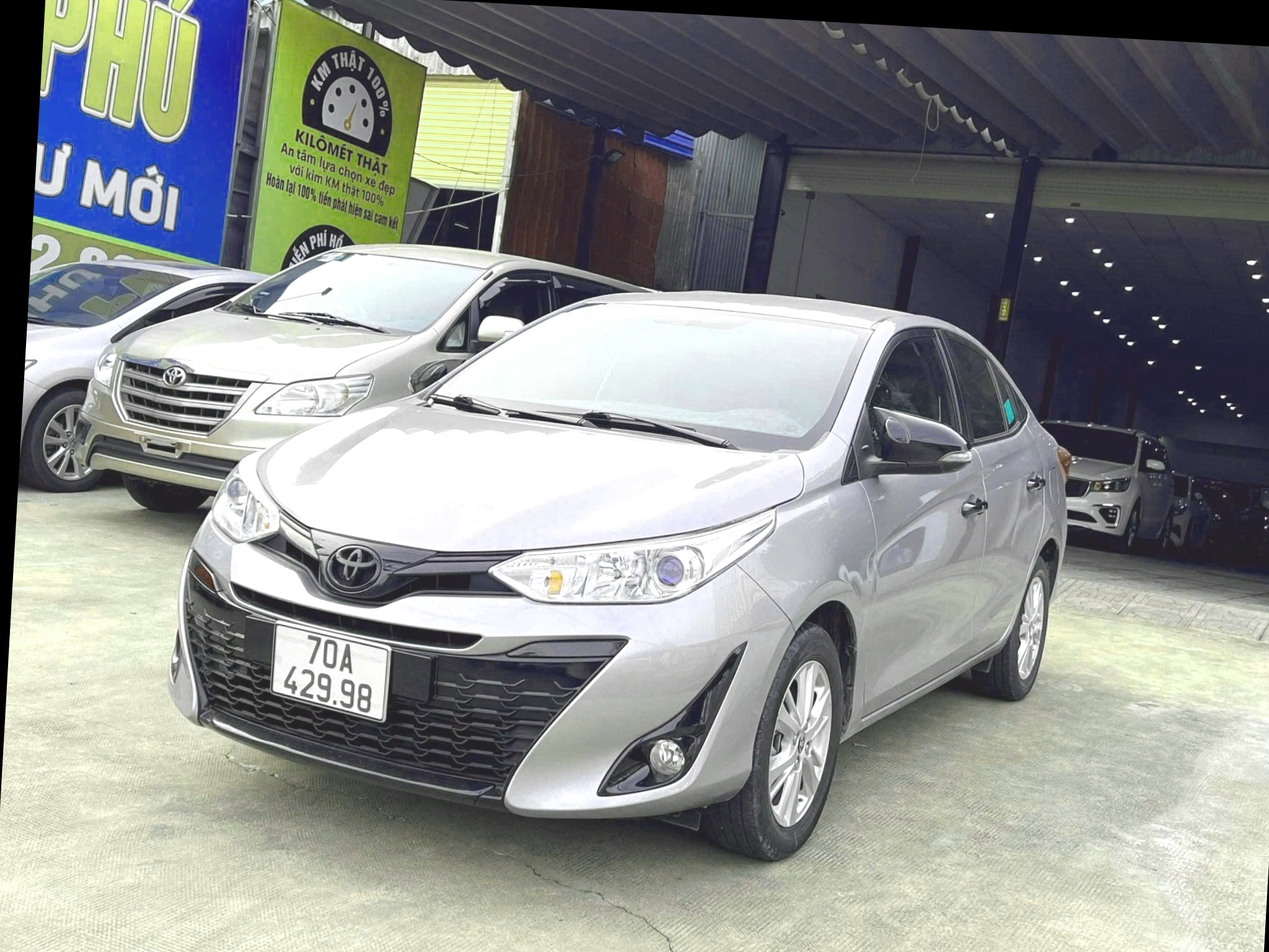Bien-so: (262, 623, 401, 721)
